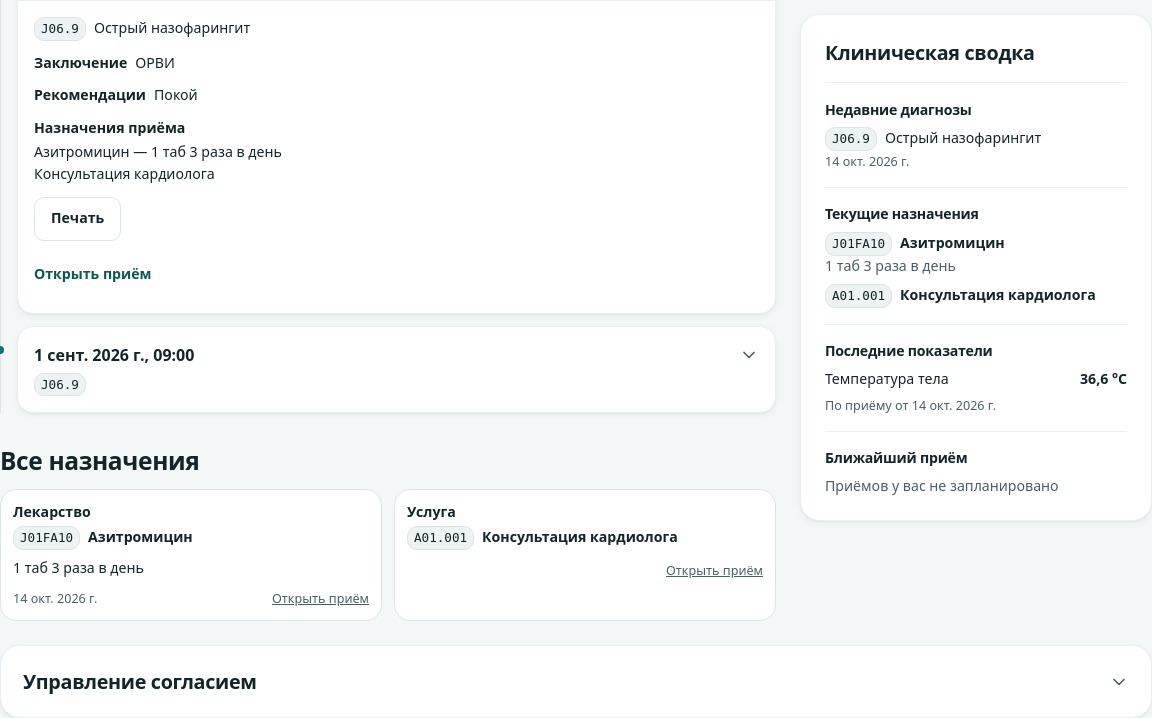
Test: PatientCardView history cards (A2) › should unfold a folded visit in place and fold it again
(page scrolled)
Click the button "1 сент. 2026 г., 09:00 J06.9" at (114, 355), box [18,327,775,412]
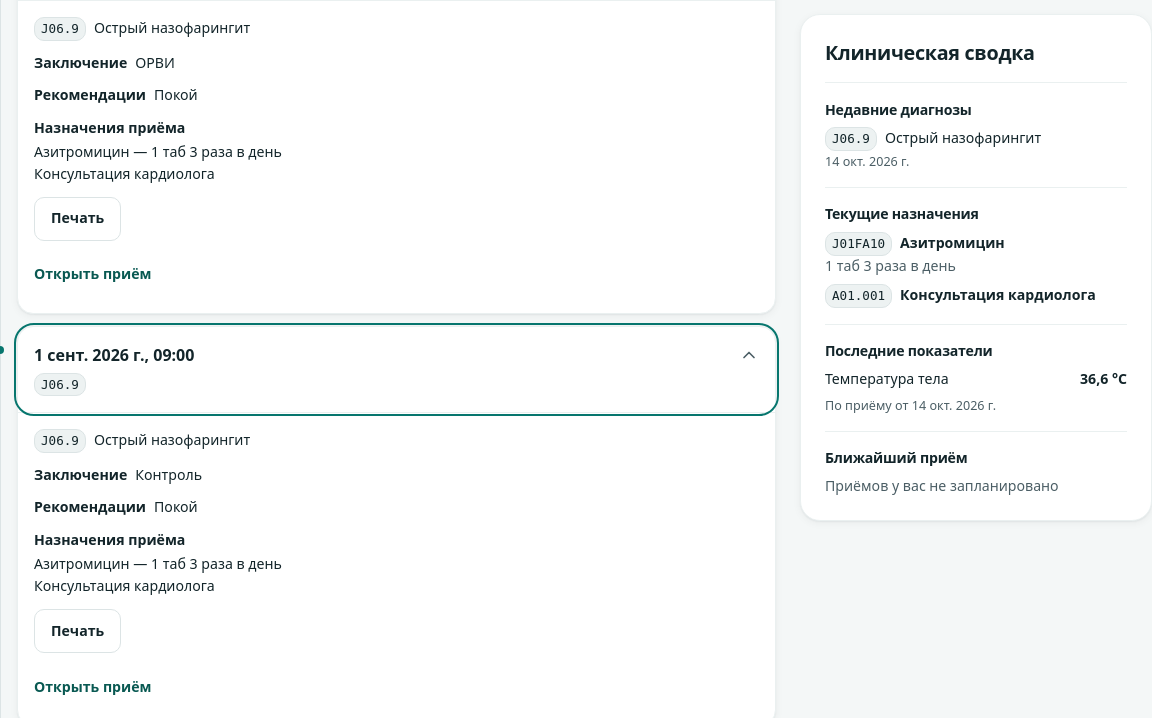
expect the text "Контроль" is shown: met, box [135,465,202,484]
Click the button "1 сент. 2026 г., 09:00 J06.9" at (114, 355), box [18,327,775,412]
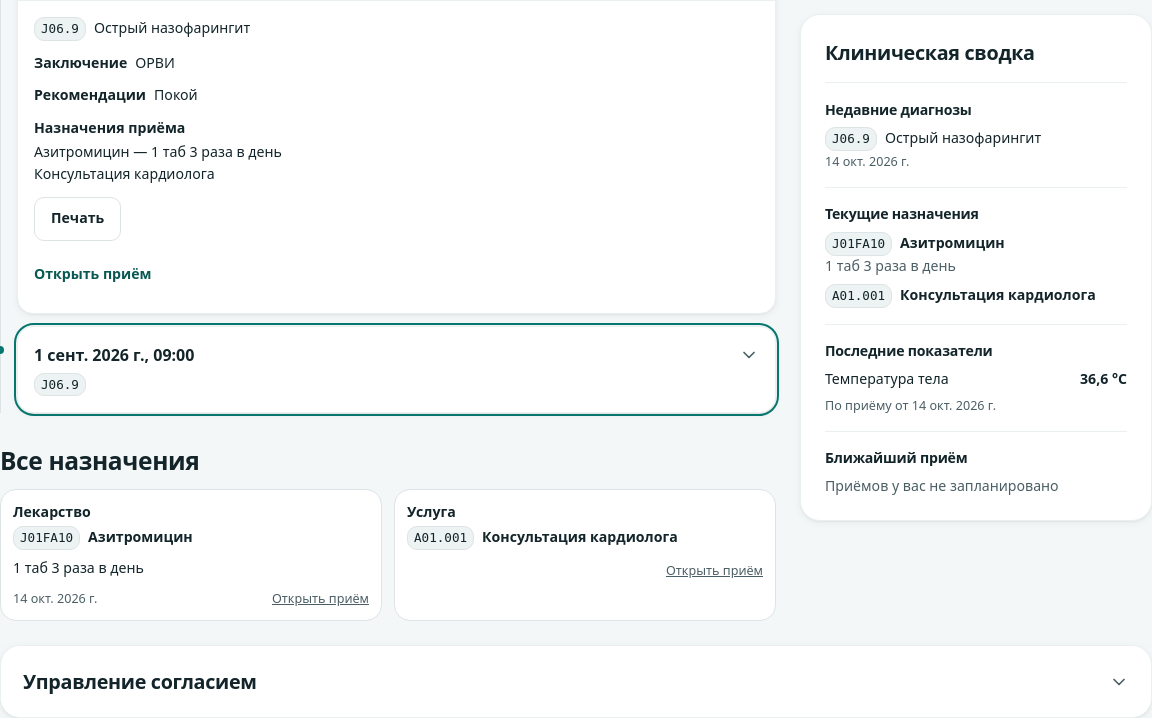
expect the text "Контроль" is gone: met
